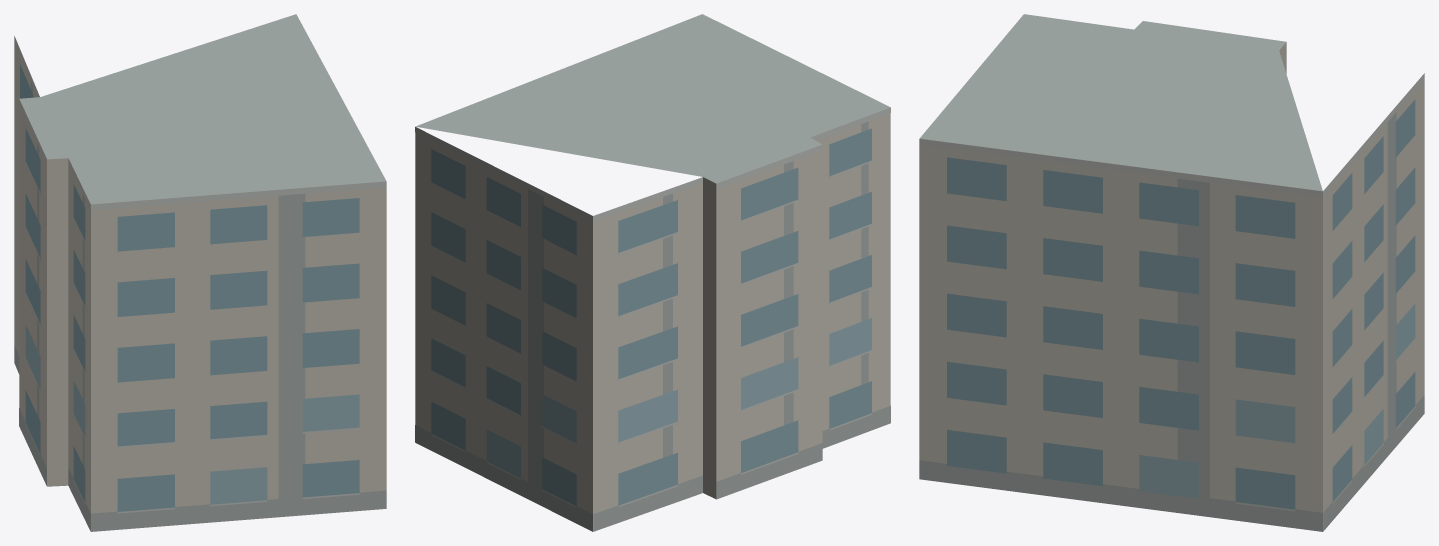
File: survey-upis-33014523.glb
3 renders of one model, left to right at view 1: azimuth 30°, elevation 25°; view 2: azimuth 150°, elevation 25°; view 3: azimuth 270°, elevation 25°, orthographic. The views are drawn at different scales.
Parts seen in each view (by area): view 1: survey-upis-33014523.tmp; view 2: survey-upis-33014523.tmp; view 3: survey-upis-33014523.tmp.
Part boxes in pixels (x1,y1,x2,y2): survey-upis-33014523.tmp: (14, 14, 386, 531); survey-upis-33014523.tmp: (415, 14, 890, 531); survey-upis-33014523.tmp: (919, 14, 1424, 531).
Size of the model in its own units: 14.91 by 13.35 by 17.96.
